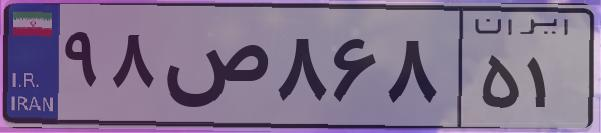1: (525, 38, 570, 115)
5: (475, 38, 525, 113)
6: (330, 28, 385, 110)
8: (270, 28, 330, 110), (385, 28, 445, 110), (110, 28, 158, 98)
9: (57, 26, 110, 100)
ص: (158, 20, 270, 120)
